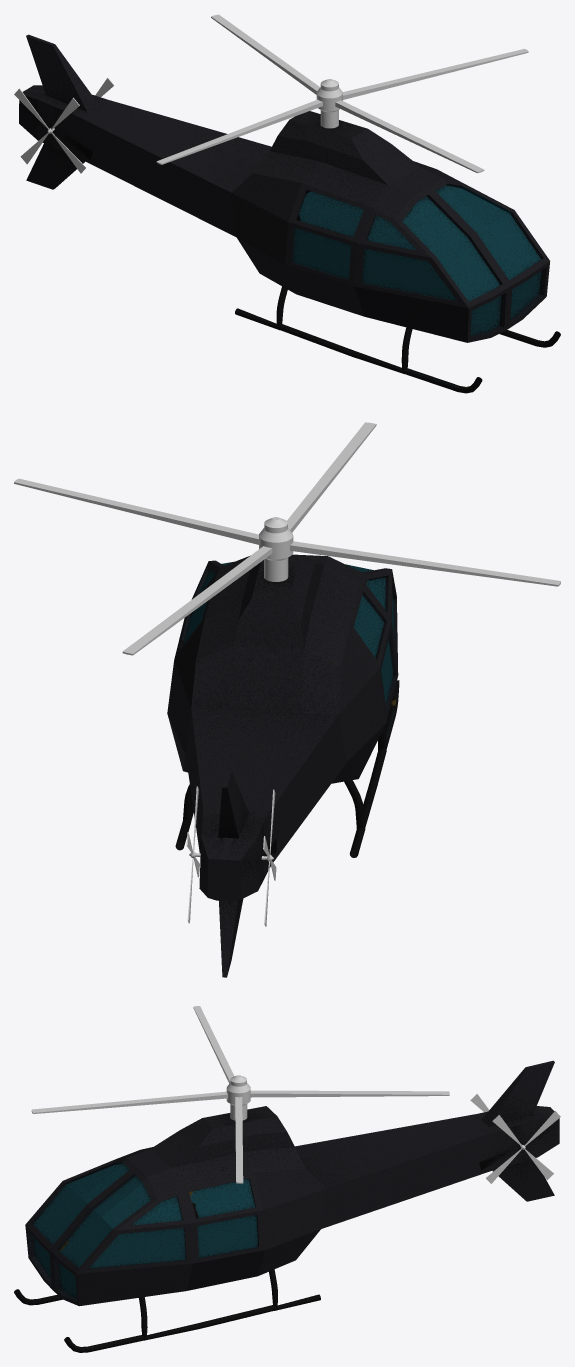
The model's file is anim_000075.obj.
3 views of the same model, one above another, from view 1: azimuth 30°, elevation 25°; view 2: azimuth 150°, elevation 25°; view 3: azimuth 270°, elevation 25° (orthographic). The views are drawn at different scales.
Parts seen in each view (by area): view 1: Helicopter.007_Cylinder.008, Helicopter.001_Cylinder.001, Helicopter.004_Cylinder.005; view 2: Helicopter.007_Cylinder.008, Helicopter.001_Cylinder.001; view 3: Helicopter.007_Cylinder.008, Helicopter.001_Cylinder.001, Helicopter.003_Cylinder.004.
Part boxes in pixels (left/top/right/bottom): Helicopter.007_Cylinder.008: left=19, top=34, right=560, bottom=393; Helicopter.001_Cylinder.001: left=156, top=14, right=528, bottom=173; Helicopter.004_Cylinder.005: left=14, top=88, right=86, bottom=173; Helicopter.007_Cylinder.008: left=167, top=554, right=399, bottom=977; Helicopter.001_Cylinder.001: left=14, top=422, right=560, bottom=655; Helicopter.007_Cylinder.008: left=14, top=1060, right=559, bottom=1352; Helicopter.001_Cylinder.001: left=31, top=1006, right=449, bottom=1183; Helicopter.003_Cylinder.004: left=486, top=1111, right=560, bottom=1183.
Size of the model in its own units: 5.55 by 3.21 by 7.26.
